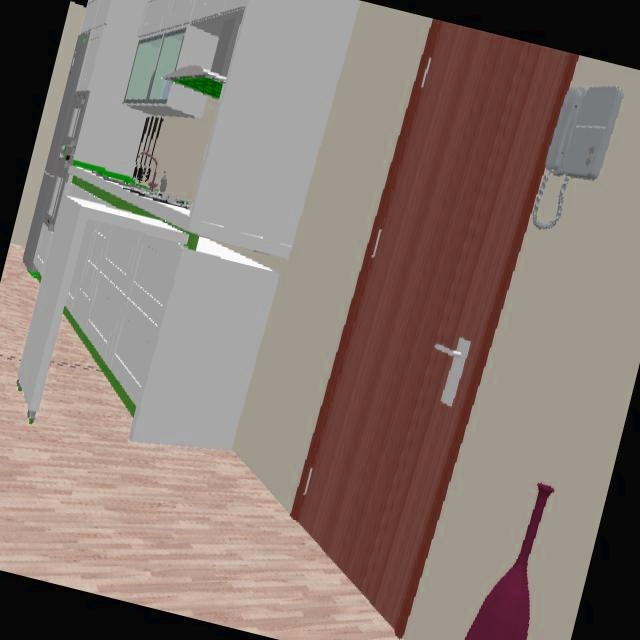cabinet: (74, 0, 244, 175), (66, 223, 181, 405)
countertop: (70, 161, 197, 248)
fridge: (22, 31, 90, 269)
microwave: (62, 91, 89, 155)
oven: (43, 152, 72, 230)
sink: (103, 151, 158, 192)
stove: (122, 186, 191, 209)
